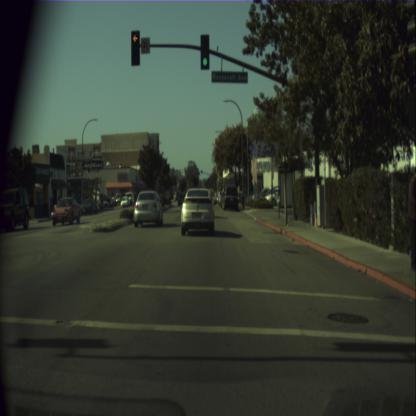Green: (200, 34, 209, 70), (200, 169, 202, 175)
RedLeft: (131, 30, 139, 64)
